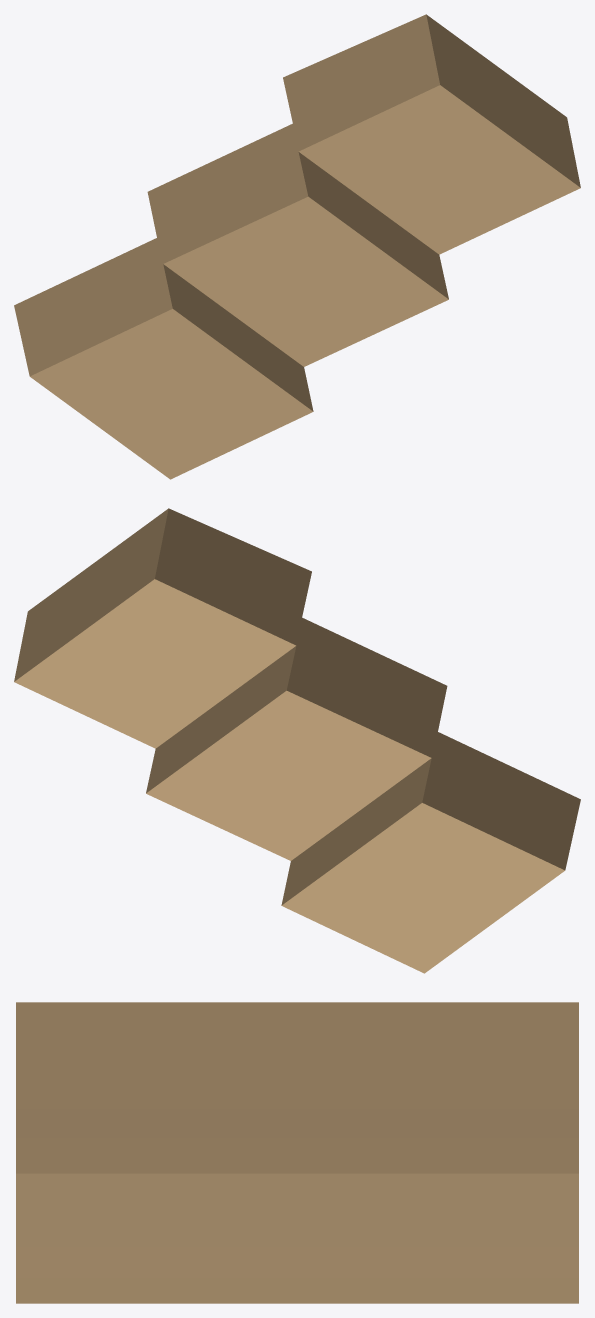
The picture shows the model from 3 angles, top to bottom: view 1: azimuth 30°, elevation 25°; view 2: azimuth 150°, elevation 25°; view 3: azimuth 270°, elevation 25°; orthographic projection. The views are drawn at different scales.
Visible parts, largest first — view 1: 0_0_1_1_3_1_2_3; view 2: 0_0_1_1_3_1_2_3; view 3: 0_0_1_1_3_1_2_3.
Boxes of the visible parts, box(x1,y1,x2,y2) form: 0_0_1_1_3_1_2_3: box(14, 14, 580, 479); 0_0_1_1_3_1_2_3: box(14, 508, 580, 973); 0_0_1_1_3_1_2_3: box(16, 1002, 578, 1303).
Bounding box in the file's own units: 47.19 × 28.09 × 27.
